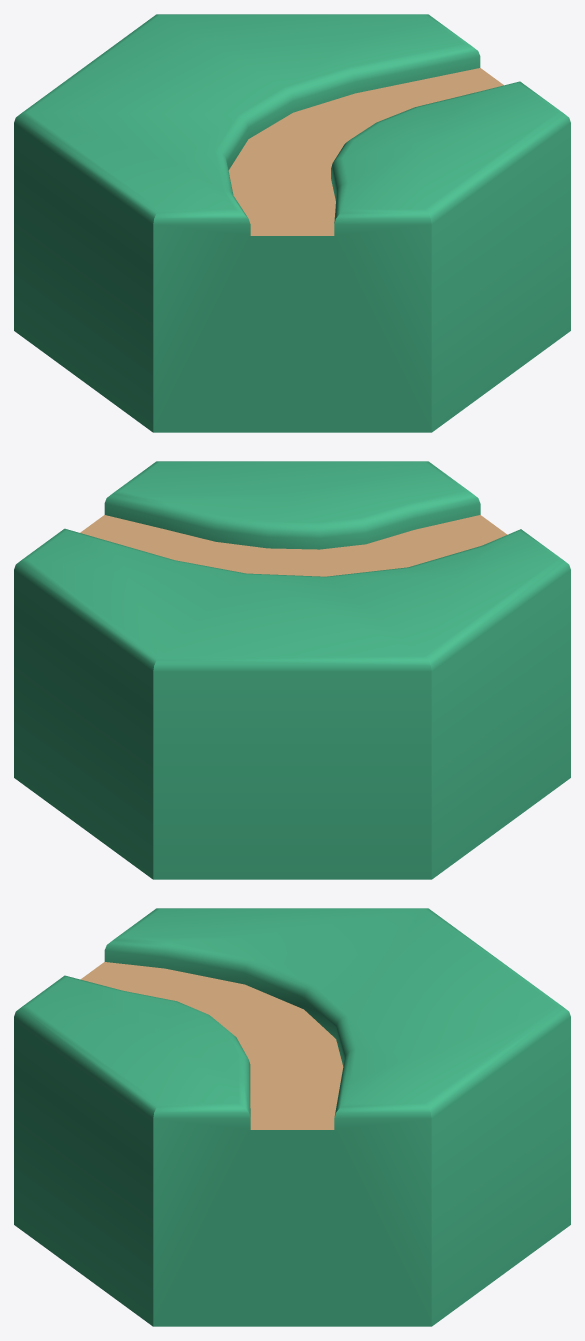
The model's file is kaykit-hex-forest-roadd.glb.
3 renders of one model, top to bottom at view 1: azimuth 30°, elevation 25°; view 2: azimuth 150°, elevation 25°; view 3: azimuth 270°, elevation 25°, orthographic.
Visible parts, largest first — view 1: hex_forest_roadD; view 2: hex_forest_roadD; view 3: hex_forest_roadD.
Boxes of the visible parts, left/top/right/bottom form: hex_forest_roadD: left=14, top=14, right=570, bottom=432; hex_forest_roadD: left=14, top=461, right=570, bottom=879; hex_forest_roadD: left=14, top=908, right=570, bottom=1326.
Size of the model in its own units: 2 by 1 by 2.31.
